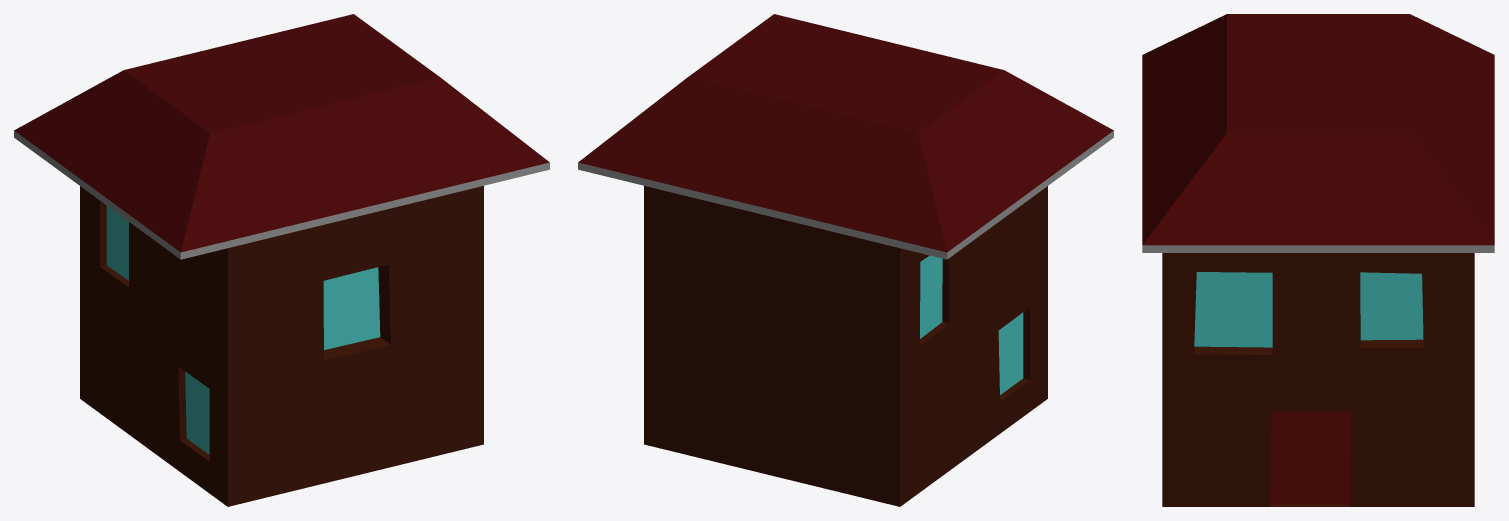
Rendered from house.obj.
The picture shows the model from 3 angles, left to right: view 1: azimuth 30°, elevation 25°; view 2: azimuth 150°, elevation 25°; view 3: azimuth 270°, elevation 25°; orthographic projection. The views are drawn at different scales.
Visible parts, largest first — view 1: Cube.001; view 2: Cube.001; view 3: Cube.001.
Boxes of the visible parts, x1,y1,x2,y2 form: Cube.001: (14, 14, 549, 506); Cube.001: (578, 14, 1113, 506); Cube.001: (1142, 14, 1494, 506).
Bounding box in the file's own units: 2.88 × 2.59 × 2.25.
